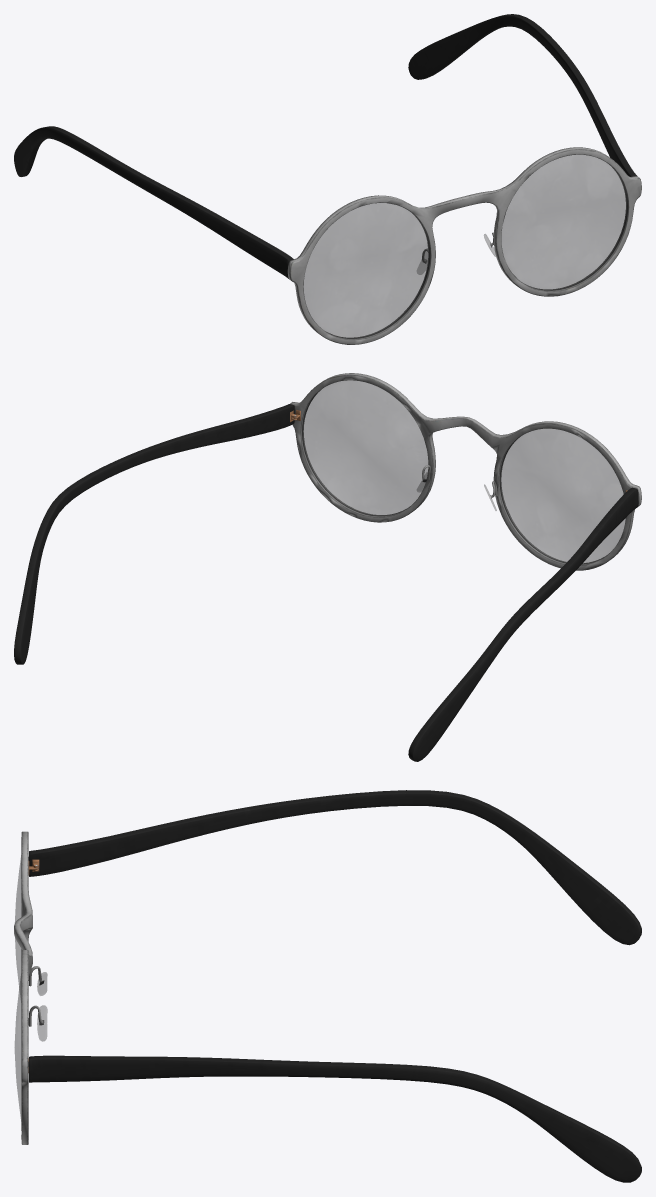
Rendered from round_spectacles.glb.
3 views of the same model, one above another, from view 1: azimuth 30°, elevation 25°; view 2: azimuth 150°, elevation 25°; view 3: azimuth 270°, elevation 25° (orthographic). The views are drawn at different scales.
Parts seen in each view (by area): view 1: round_spectacles; view 2: round_spectacles; view 3: round_spectacles.
Part boxes in pixels (left/top/right/bottom): round_spectacles: left=14, top=14, right=641, bottom=344; round_spectacles: left=14, top=373, right=641, bottom=761; round_spectacles: left=14, top=790, right=641, bottom=1182.
Bounding box in the file's own units: 0.1578 × 0.0463 × 0.149.
Materials: 2 (2 with a texture image).
